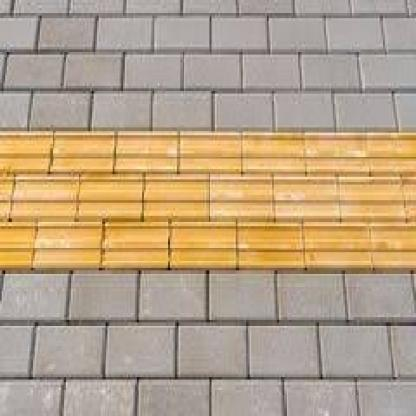podotacti: (0, 123, 415, 272)
